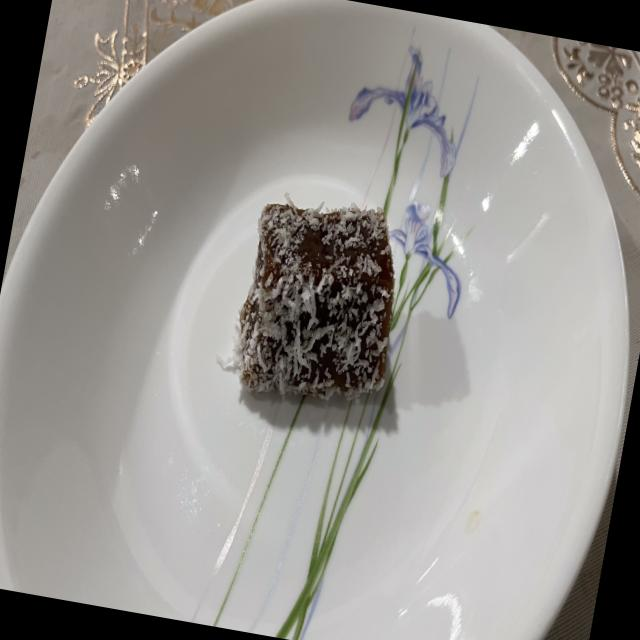kaswi: (238, 203, 394, 398)
